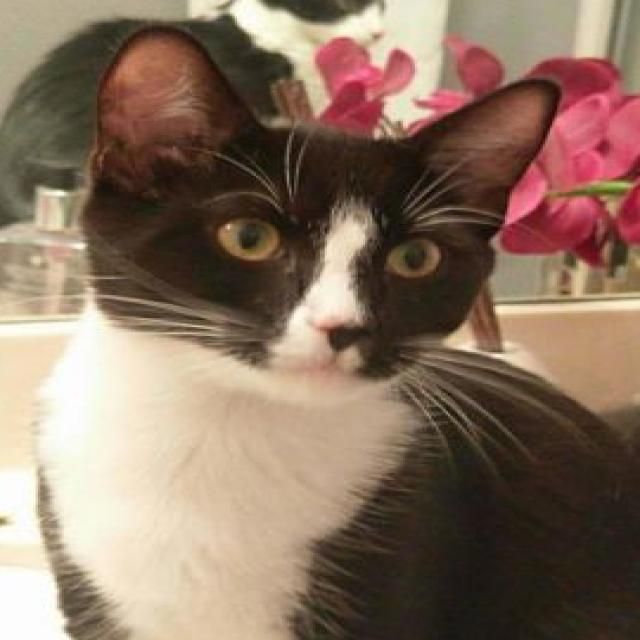Tuxedo: (28, 19, 639, 640)
